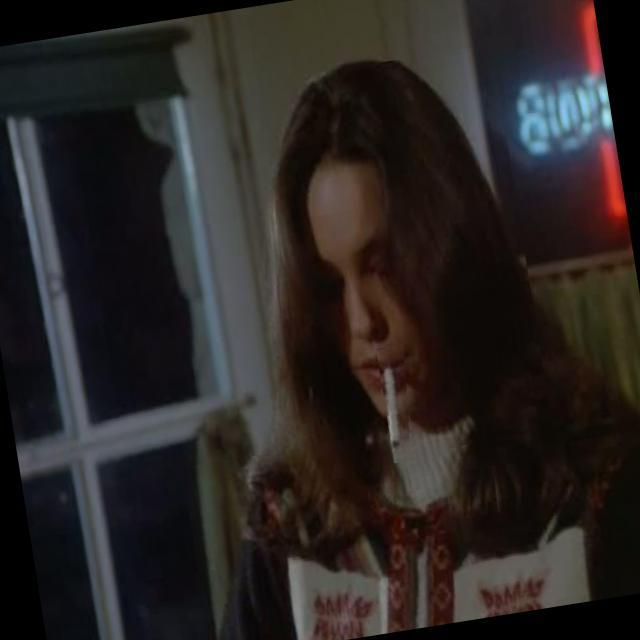cigarette: (377, 344, 422, 463)
